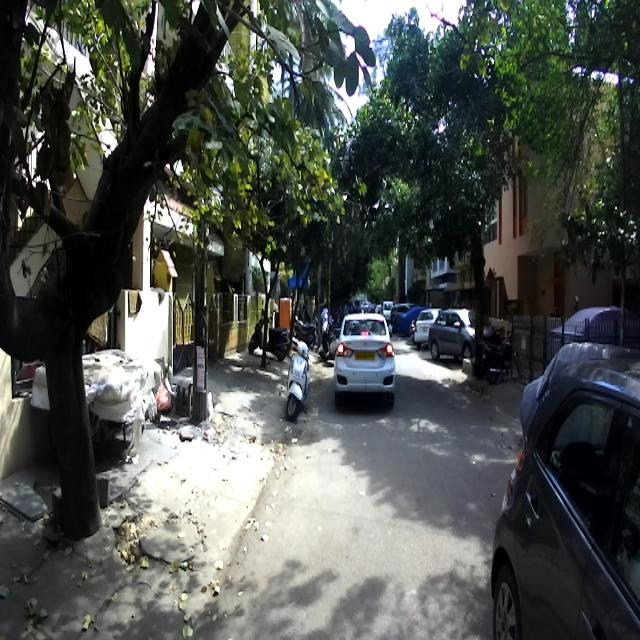Car: (490, 358, 640, 639), (520, 340, 640, 449), (541, 304, 639, 358)
Car_Maruti-Suzuki: (333, 312, 395, 406), (428, 308, 494, 362)
scooter: (282, 322, 318, 428), (248, 298, 290, 362)
